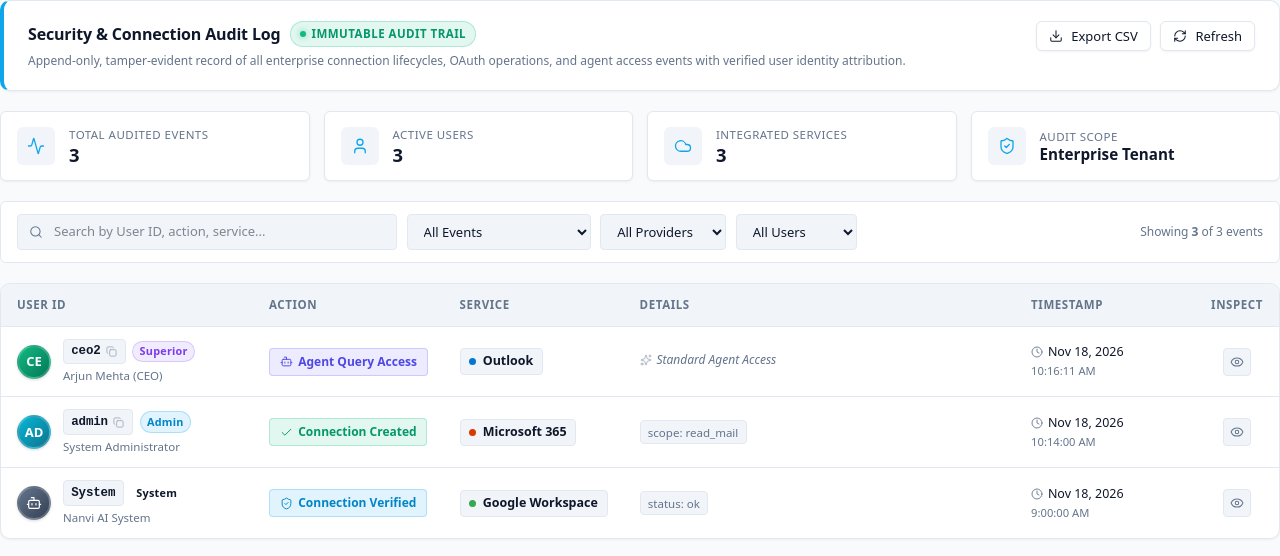
Test: AuditLogView Component › filters audit events by search term
Expected: the text "ceo2" is shown, 63,338 -> 126,364
Type "admin" into the field with placeholder "Search by User ID, action, service..." at x=207, y=232, box 17,214 -> 397,250
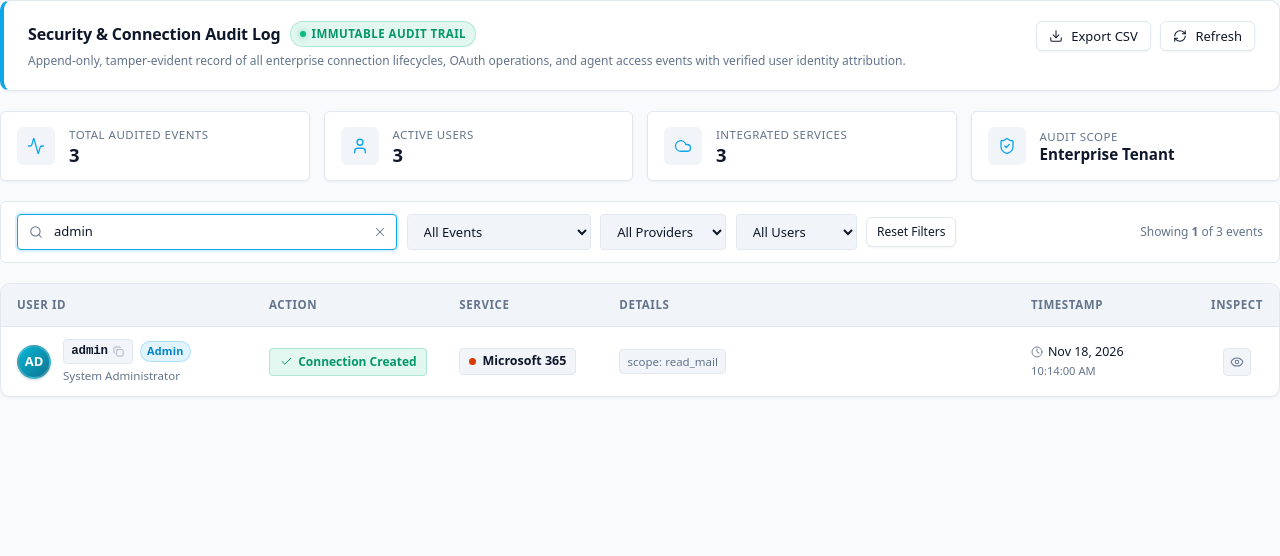
Expected: the text "admin" is shown, 63,338 -> 133,364
Now the text "ceo2" is gone
